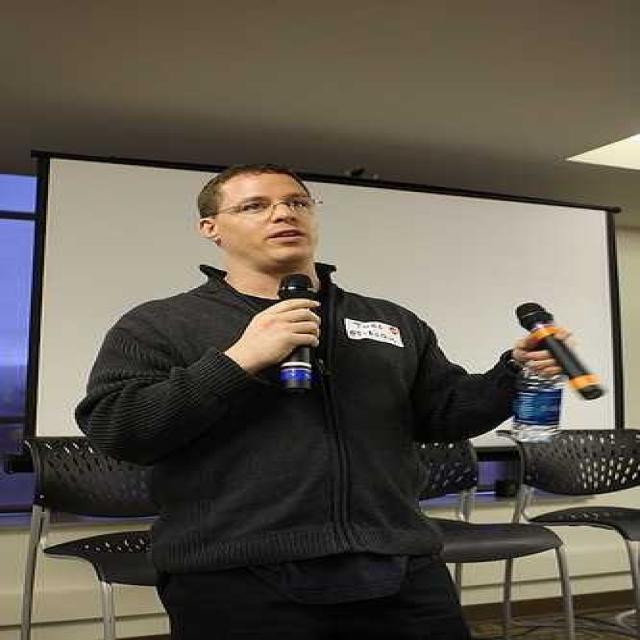microphone: (511, 303, 606, 384), (265, 268, 325, 366)
